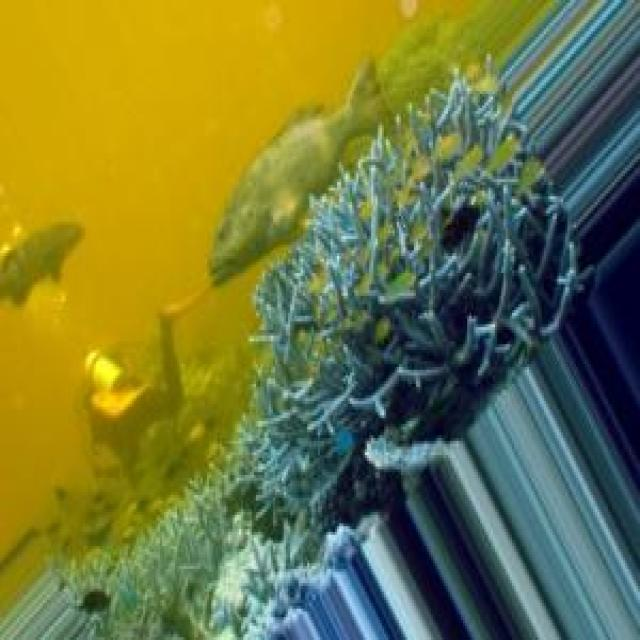Bleached: (266, 78, 566, 445)
